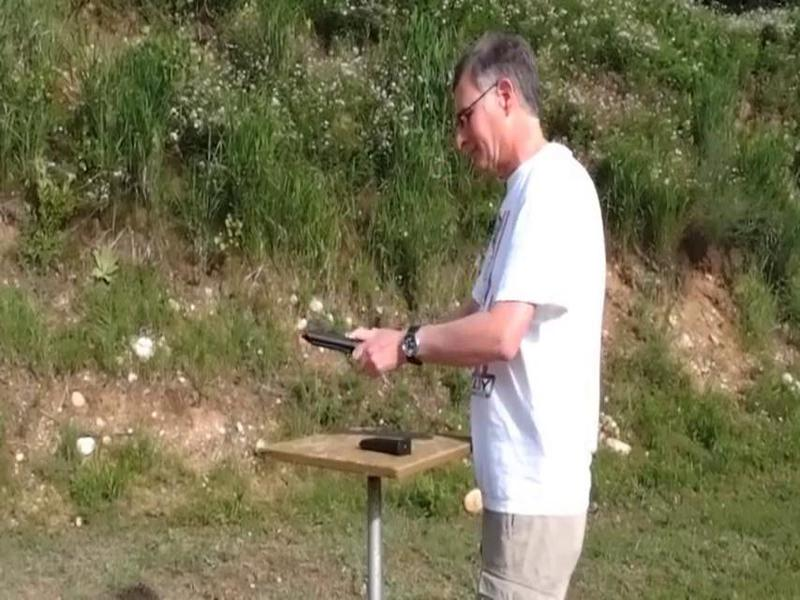Revolver: (289, 310, 425, 388)
